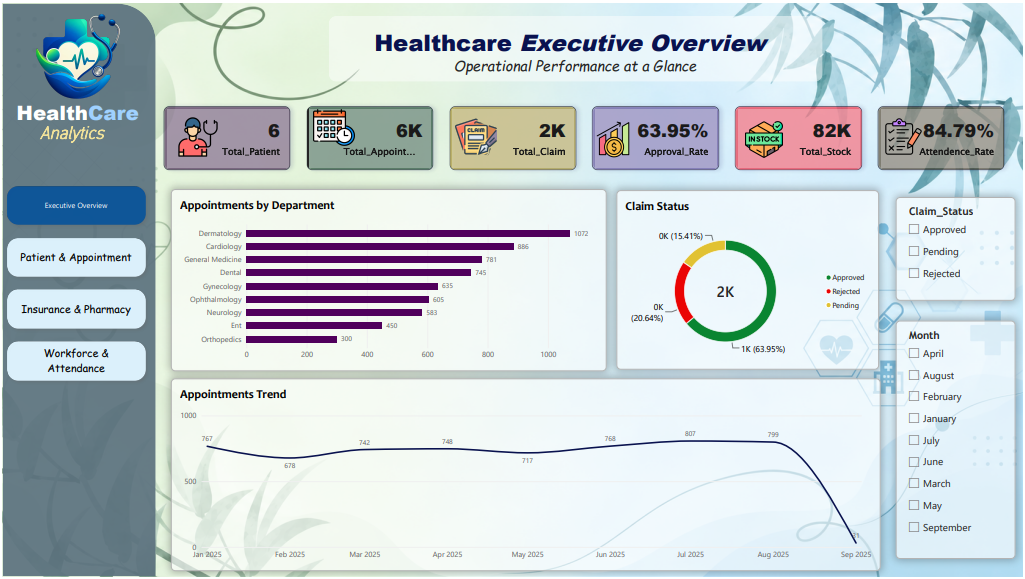

Layout of this report page (visuals, bound fields, positions):
{"tool":"powerbi","page":{"name":"Executive Overview","canvas":[1920,1080],"ordinal":0},"visuals":[{"type":"shape","box":[614,22.7,929.7,123.8],"z":0},{"type":"cardVisual","fields":{"Data":["Patients_Master.Total_Patient","Raw_Appointments.Total_Appointments","Insurance_Claims.Total_Claim","Insurance_Claims.Approval_Rate","Pharmacy_Inventory.Total_Stock","Staff_Master.Attendence_Rate"]},"box":[287.8,177.9,1618.6,151.7],"z":1000},{"type":"shape","box":[0,0,288,1080],"z":2000},{"type":"lineChart","title":"Appointments Trend","fields":{"Category":["DateTable.Date.Variation.Date Hierarchy.Year","DateTable.Date.Variation.Date Hierarchy.Month"],"Y":["Raw_Appointments.Total_Appointments"]},"box":[316.7,706.7,1336.7,363.3],"z":3000},{"type":"barChart","title":"Appointments by Department","fields":{"Category":["Raw_Appointments.Department"],"Y":["Raw_Appointments.Total_Appointments"]},"box":[316.7,350,820,343.3],"z":4000},{"type":"donutChart","title":"Claim Status","fields":{"Category":["Insurance_Claims.Claim_Status"],"Y":["Insurance_Claims.Total_Claim"]},"box":[1156,352,494,338],"z":5000},{"type":"textbox","box":[315,650,150,430],"z":6000},{"type":"textbox","box":[700,42,808,84],"z":7000},{"type":"slicer","fields":{"Values":["DateTable.Month"]},"box":[1681.7,598.3,225,448.3],"z":8000},{"type":"slicer","fields":{"Values":["Insurance_Claims.Claim_Status"]},"box":[1681.7,365,225,195],"z":9000},{"type":"image","box":[17.8,8.9,237.8,177.8],"z":10000},{"type":"textbox","box":[26.2,178.8,337.3,90.2],"z":11000},{"type":"textbox","box":[850,98,610,55],"z":12000},{"type":"pageNavigator","box":[0,315.6,277,410],"z":13000},{"type":"textbox","box":[70,223.8,148.9,62.2],"z":14000},{"type":"image","box":[301.7,212.8,130.8,76.7],"z":15000},{"type":"image","box":[547.7,195.3,151.7,76.7],"z":16000},{"type":"image","box":[839,212.8,104.7,76.7],"z":17000},{"type":"image","box":[1112.8,223.3,73.3,66.3],"z":18000},{"type":"image","box":[1336.1,221.5,193.6,69.8],"z":19000},{"type":"image","box":[1650,214.5,92.4,71.5],"z":20000}]}

Visuals, with their boxes in screenshot pixels (x1, y1, x2, y2), scaled from the page's 1920x1080 canvas onto the 1025x579 screenshot:
shape: locate(328, 12, 824, 79)
cardVisual - Patients_Master.Total_Patient x Raw_Appointments.Total_Appointments: locate(154, 95, 1018, 177)
shape: locate(0, 0, 154, 578)
"Appointments Trend" lineChart: locate(169, 379, 883, 574)
"Appointments by Department" barChart: locate(169, 188, 607, 372)
"Claim Status" donutChart: locate(617, 189, 881, 370)
textbox: locate(168, 348, 248, 578)
textbox: locate(374, 23, 805, 68)
slicer - DateTable.Month: locate(898, 321, 1018, 561)
slicer - Insurance_Claims.Claim_Status: locate(898, 196, 1018, 300)
image: locate(10, 5, 136, 100)
textbox: locate(14, 96, 194, 144)
textbox: locate(454, 53, 779, 82)
pageNavigator: locate(0, 169, 148, 389)
textbox: locate(37, 120, 117, 153)
image: locate(161, 114, 231, 155)
image: locate(292, 105, 373, 146)
image: locate(448, 114, 504, 155)
image: locate(594, 120, 633, 155)
image: locate(713, 119, 817, 156)
image: locate(881, 115, 930, 153)
